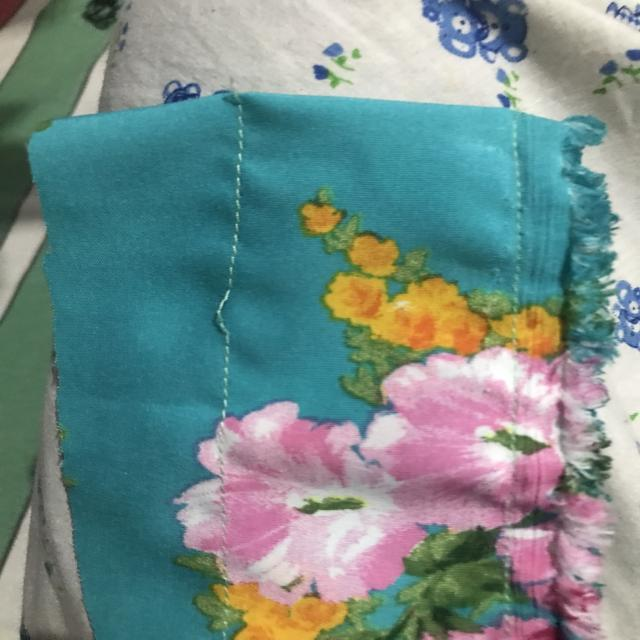good: (229, 132, 267, 240)
skip: (212, 266, 253, 356)
